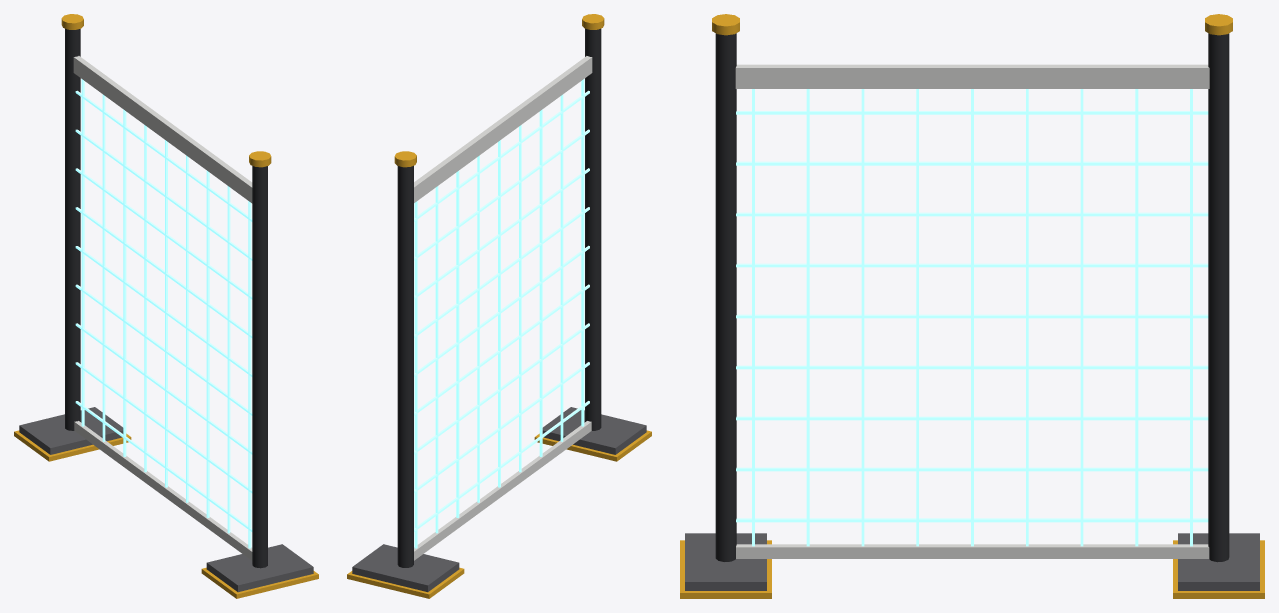
File: Sport_Net.glb
The picture shows the model from 3 angles, left to right: view 1: azimuth 30°, elevation 25°; view 2: azimuth 150°, elevation 25°; view 3: azimuth 270°, elevation 25°; orthographic projection. The views are drawn at different scales.
Visible parts, largest first — view 1: Sport_Net; view 2: Sport_Net; view 3: Sport_Net.
Part boxes in pixels (bbox=[...]): Sport_Net: bbox=[14, 14, 318, 598]; Sport_Net: bbox=[347, 14, 651, 598]; Sport_Net: bbox=[680, 14, 1264, 598].
Bounding box in the file's own units: 0.76 × 3.71 × 3.56.
